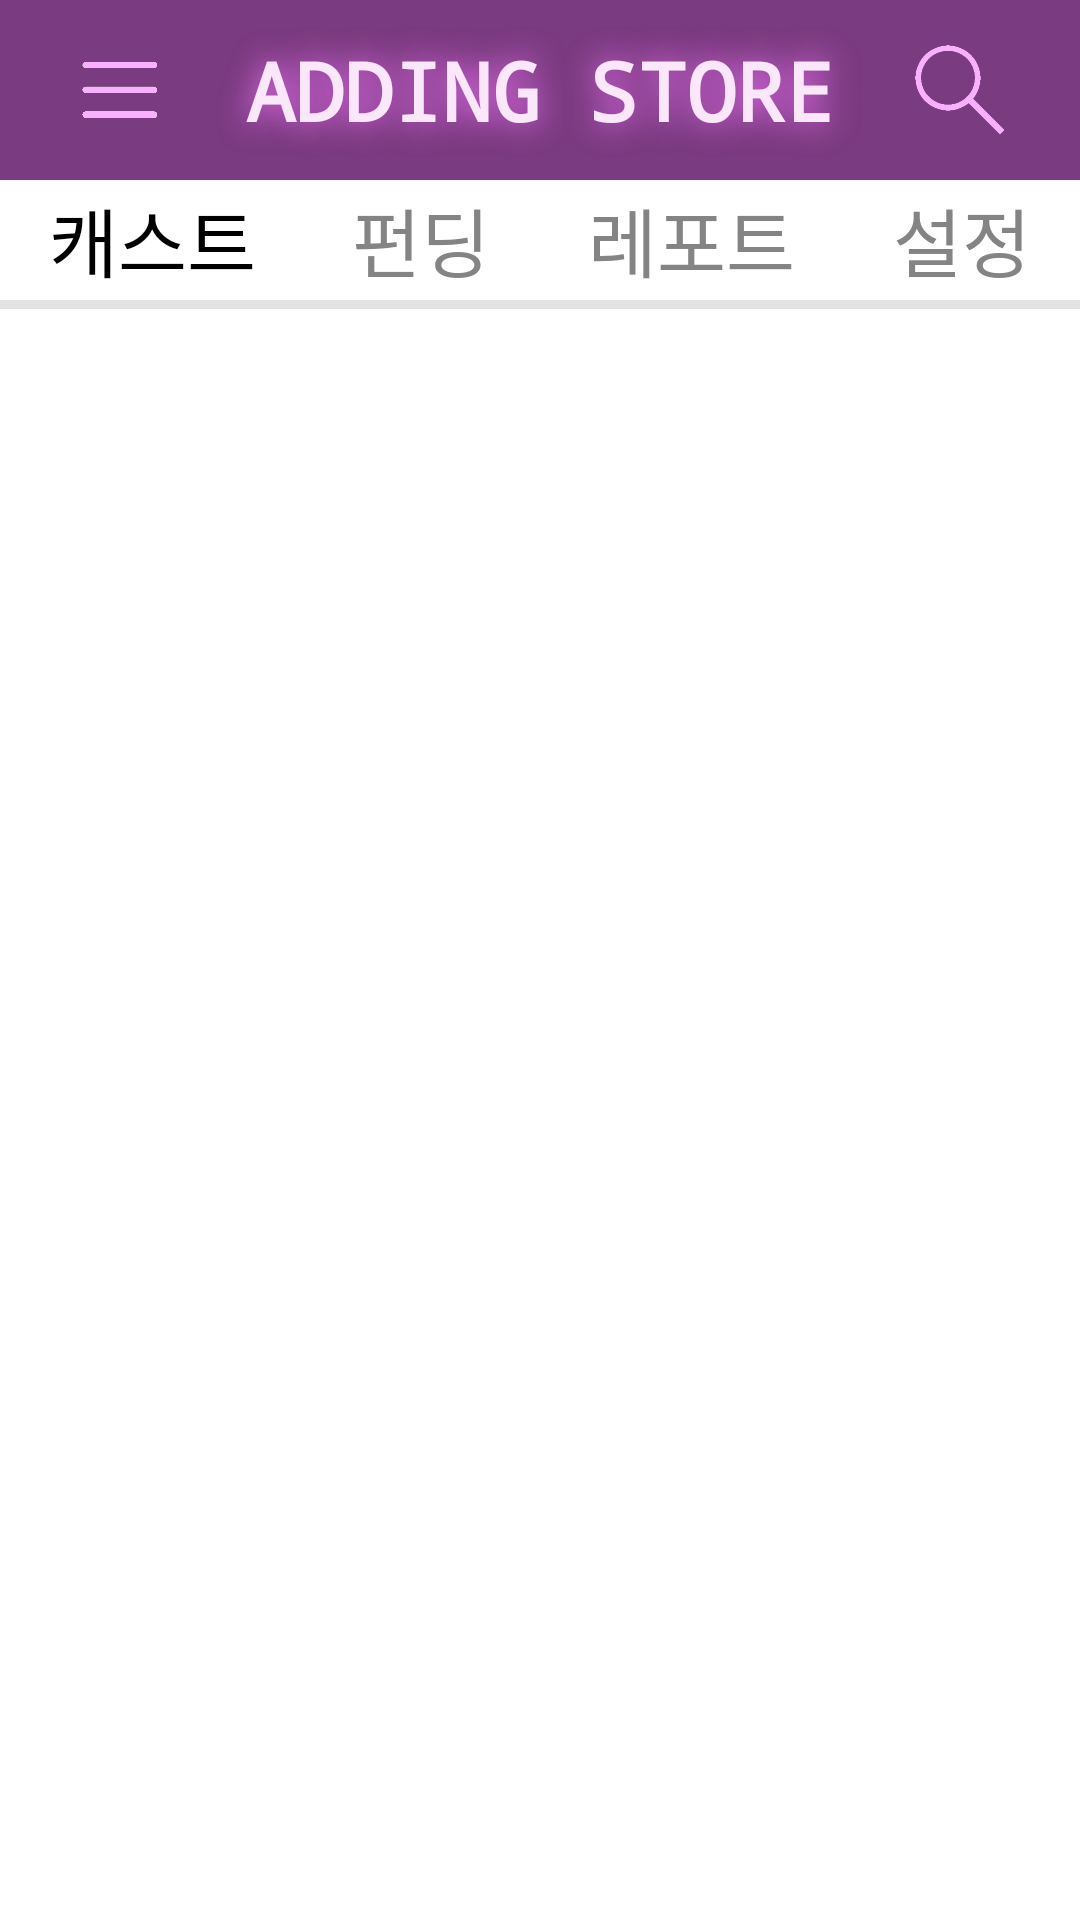

Icons on this 1080px×1920px Android screen, each with the point to tap as point (x, y):
menu: point (119, 90)
search: point (959, 89)
